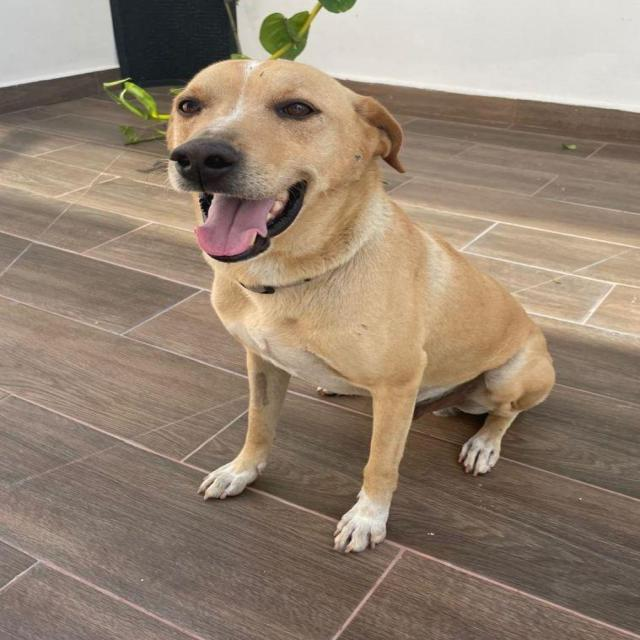labrador_retriever_dog: (152, 50, 424, 297)
